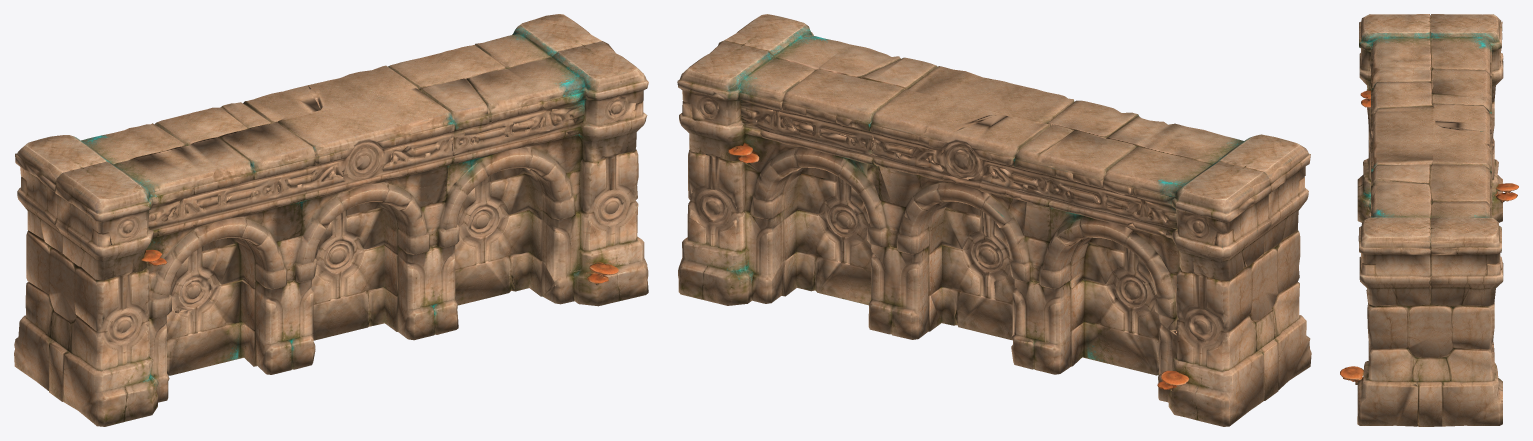
The model's file is citadel_arenawall.glb.
The picture shows the model from 3 angles, left to right: view 1: azimuth 30°, elevation 25°; view 2: azimuth 150°, elevation 25°; view 3: azimuth 270°, elevation 25°; orthographic projection. The views are drawn at different scales.
Bounding box in the file's own units: 0.9556 × 0.3667 × 0.3154.
1 material, 1 textured.
